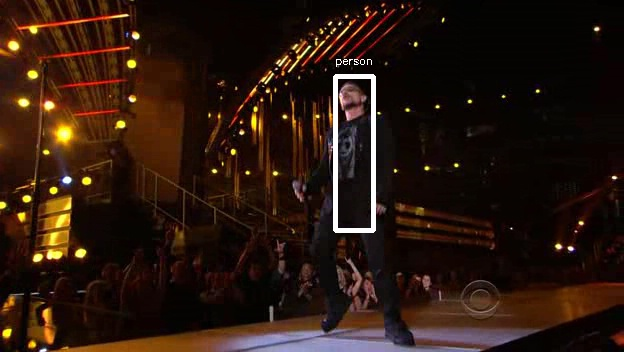person: (316, 81, 385, 226), (313, 81, 382, 226), (319, 81, 388, 226), (316, 78, 385, 223), (316, 84, 385, 229)
target_negative: (187, 208, 580, 269), (279, 201, 527, 282), (93, 302, 503, 330), (10, 319, 382, 344), (5, 226, 77, 337), (445, 345, 616, 348)
